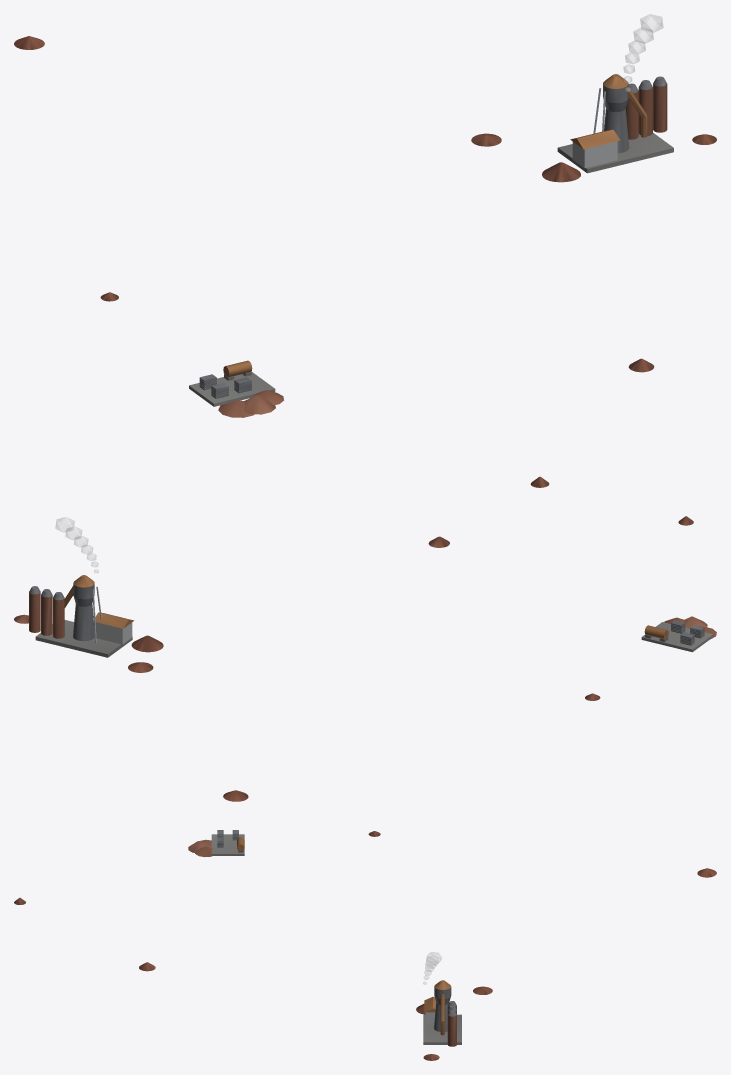
Rendered from Theme_P2.fbx.
3 views of the same model, one above another, from view 1: azimuth 30°, elevation 25°; view 2: azimuth 150°, elevation 25°; view 3: azimuth 270°, elevation 25° (orthographic). The views are drawn at different scales.
Visible parts, largest first — view 1: Theme.BlastFurnace, Theme.IngotYard, Theme.SlagBank, Theme.FurnaceSmoke; view 2: Theme.BlastFurnace, Theme.IngotYard, Theme.FurnaceSmoke; view 3: Theme.BlastFurnace, Theme.IngotYard.
Boxes of the visible parts, bbox=[...] form: Theme.BlastFurnace: bbox=[557, 74, 673, 173]; Theme.IngotYard: bbox=[189, 360, 275, 406]; Theme.SlagBank: bbox=[218, 390, 283, 417]; Theme.FurnaceSmoke: bbox=[623, 14, 663, 91]; Theme.BlastFurnace: bbox=[29, 575, 134, 657]; Theme.IngotYard: bbox=[641, 620, 713, 652]; Theme.FurnaceSmoke: bbox=[55, 517, 98, 572]; Theme.BlastFurnace: bbox=[423, 980, 461, 1046]; Theme.IngotYard: bbox=[211, 830, 244, 855].
Size of the model in its own units: 26208 by 5117 by 36452.
